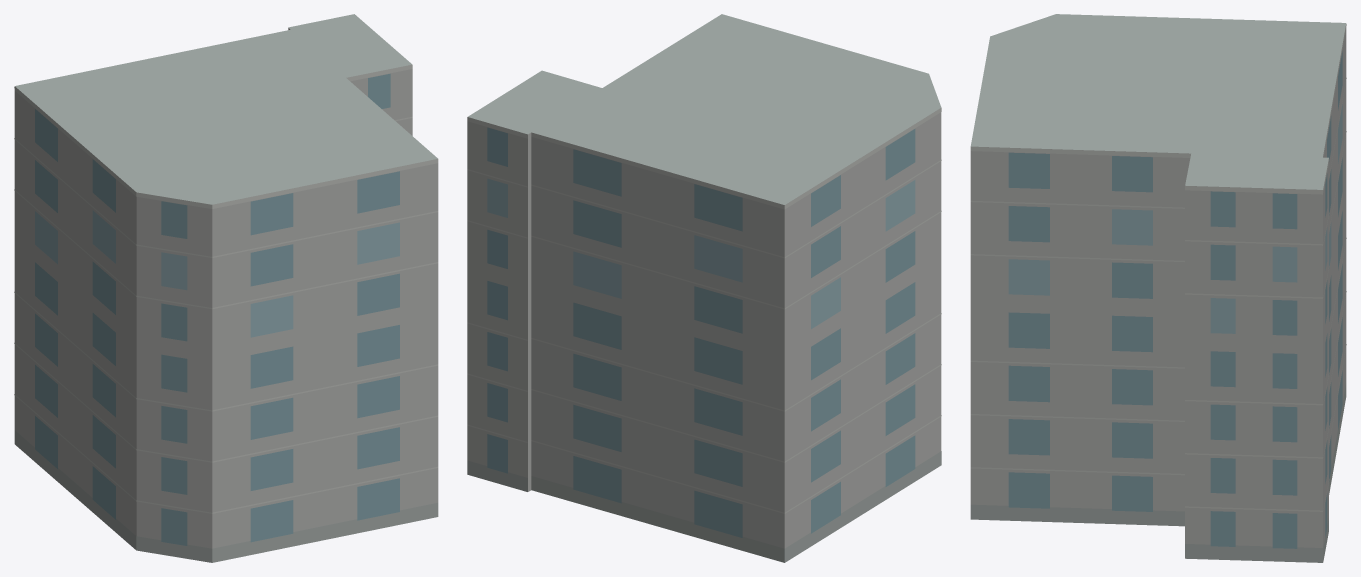
Rendered from survey-upis-32767003.glb.
The picture shows the model from 3 angles, left to right: view 1: azimuth 30°, elevation 25°; view 2: azimuth 150°, elevation 25°; view 3: azimuth 270°, elevation 25°; orthographic projection. The views are drawn at different scales.
Visible parts, largest first — view 1: survey-upis-32767003.tmp; view 2: survey-upis-32767003.tmp; view 3: survey-upis-32767003.tmp.
Part boxes in pixels (bbox=[...]): survey-upis-32767003.tmp: bbox=[14, 14, 438, 562]; survey-upis-32767003.tmp: bbox=[467, 14, 941, 562]; survey-upis-32767003.tmp: bbox=[970, 14, 1346, 562].
Bounding box in the file's own units: 20.24 × 19.98 × 18.27.
